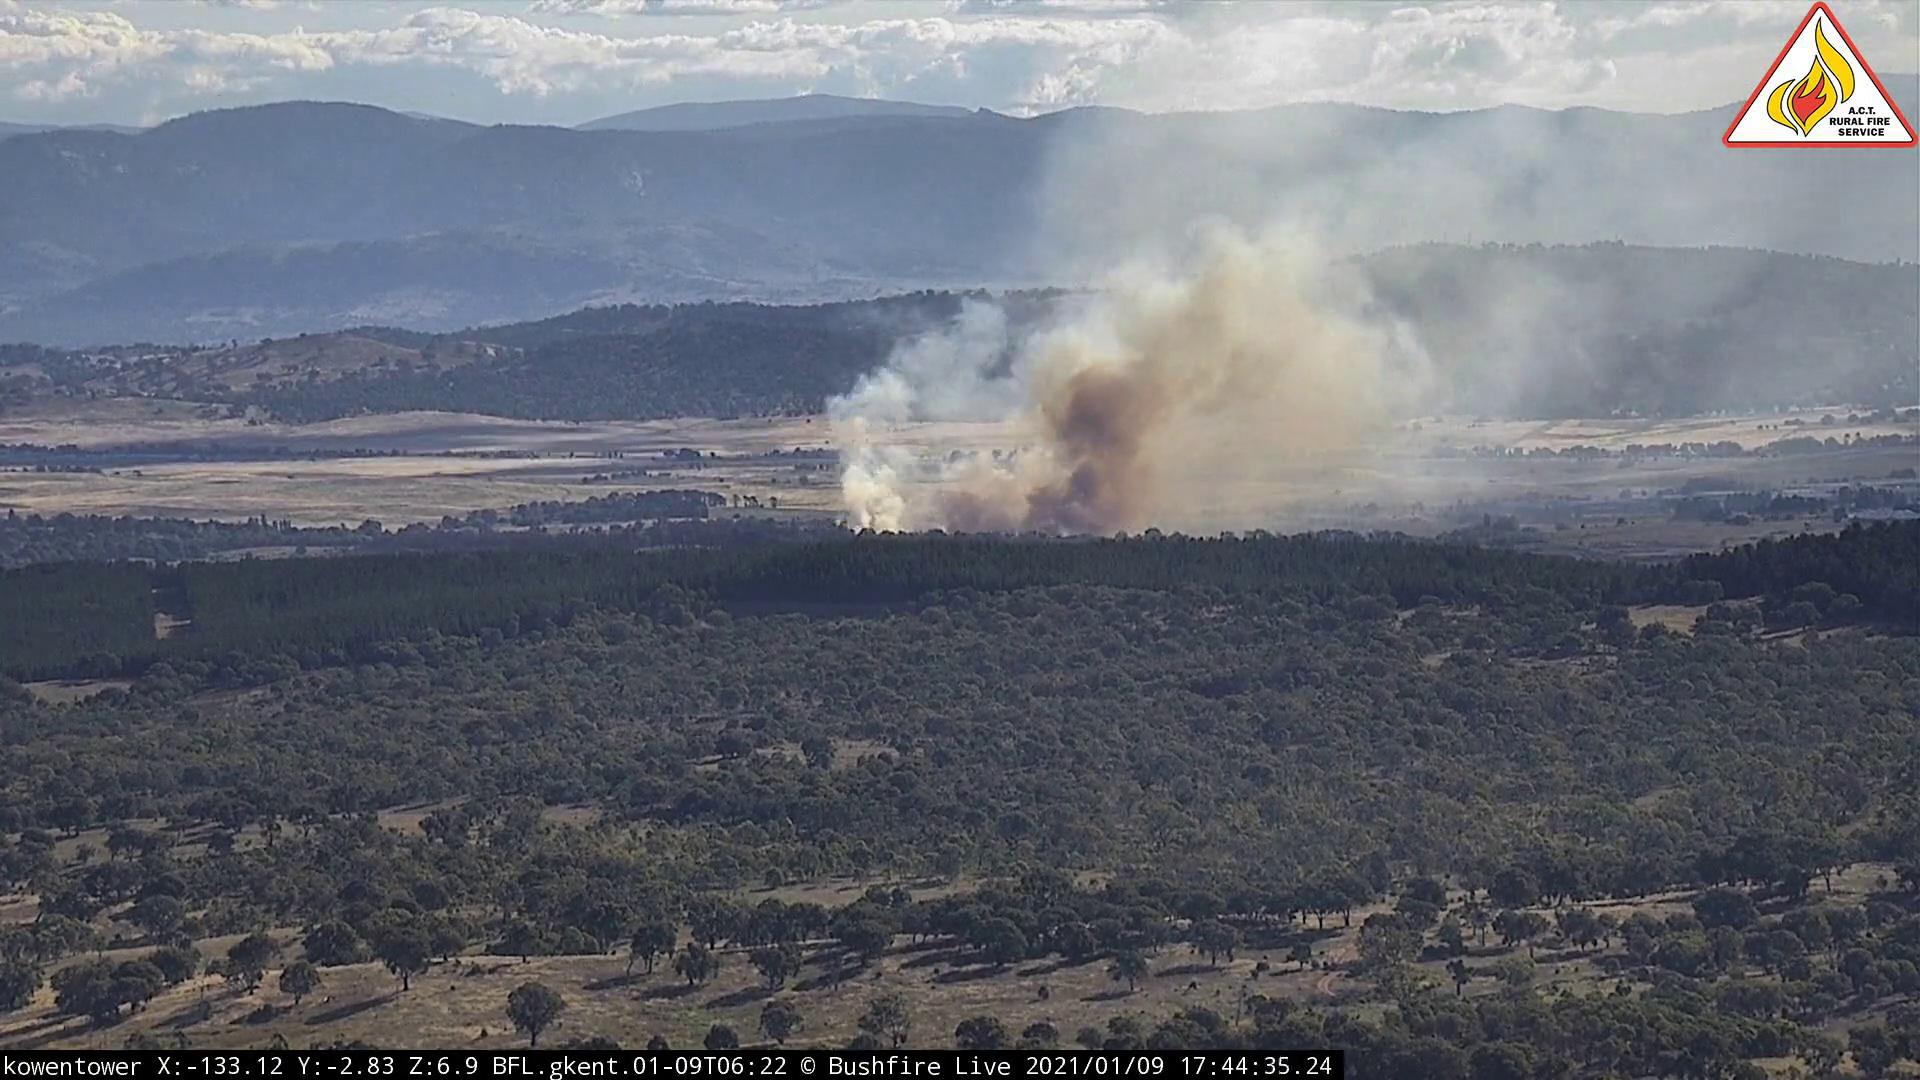Smoke: (818, 49, 1720, 542)
